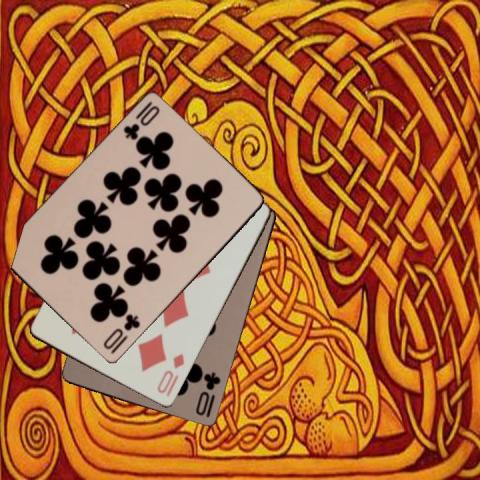10c: (100, 311, 142, 356), (120, 99, 161, 142), (193, 370, 222, 420)
10d: (154, 350, 186, 399)
